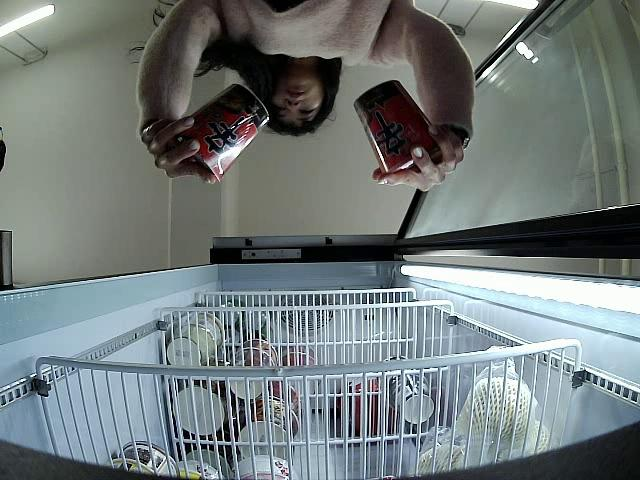00_hand: (371, 126, 465, 193), (141, 117, 217, 185)
02_shinRamen_S: (175, 83, 269, 179), (355, 81, 449, 175)
